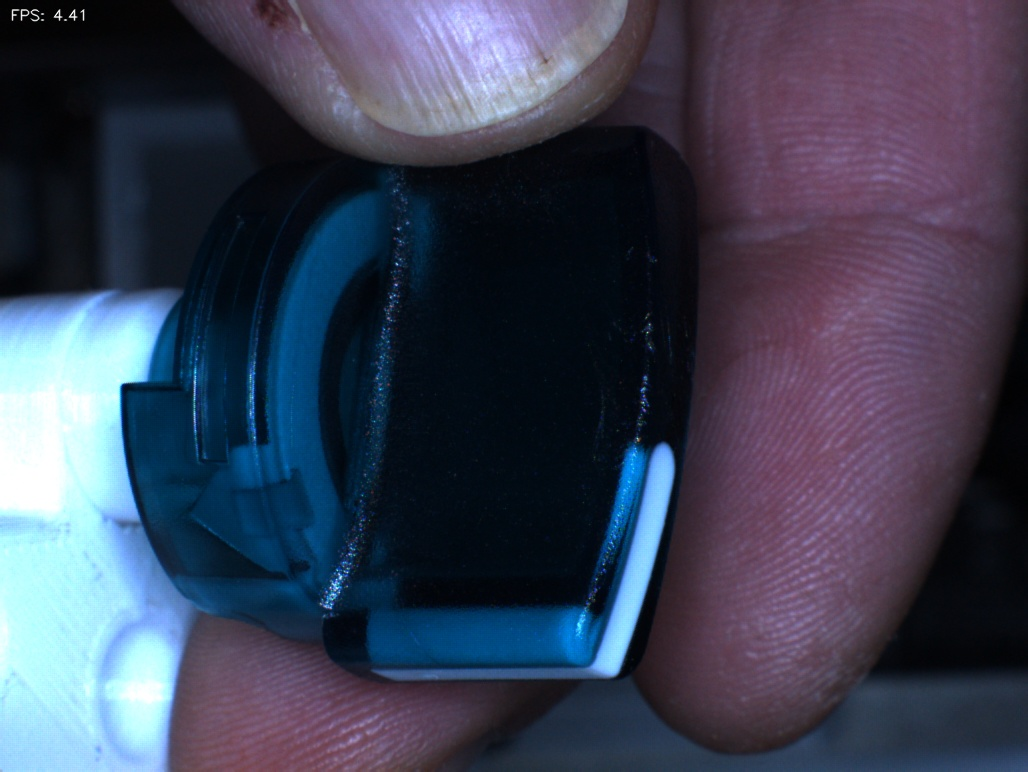Givrage: (588, 252, 669, 426)
